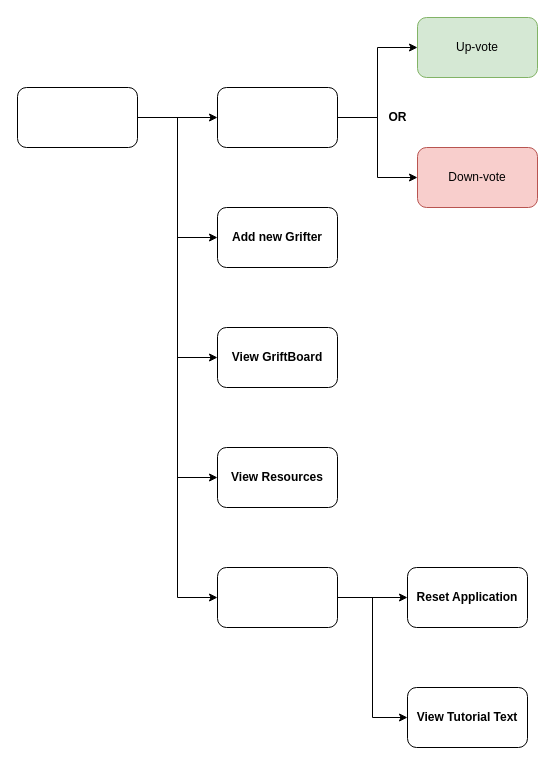
The diagram is 555 pixels wide and 765 high, and some of its shapes have lost their labels. The shapes that lost their labels are listed below. From the top down, each one's centre as x and y in pixels, then its label:
At point 77,117: "View Feed".
At point 277,117: "Rate Grifter".
At point 277,597: "View Help and Settings".
